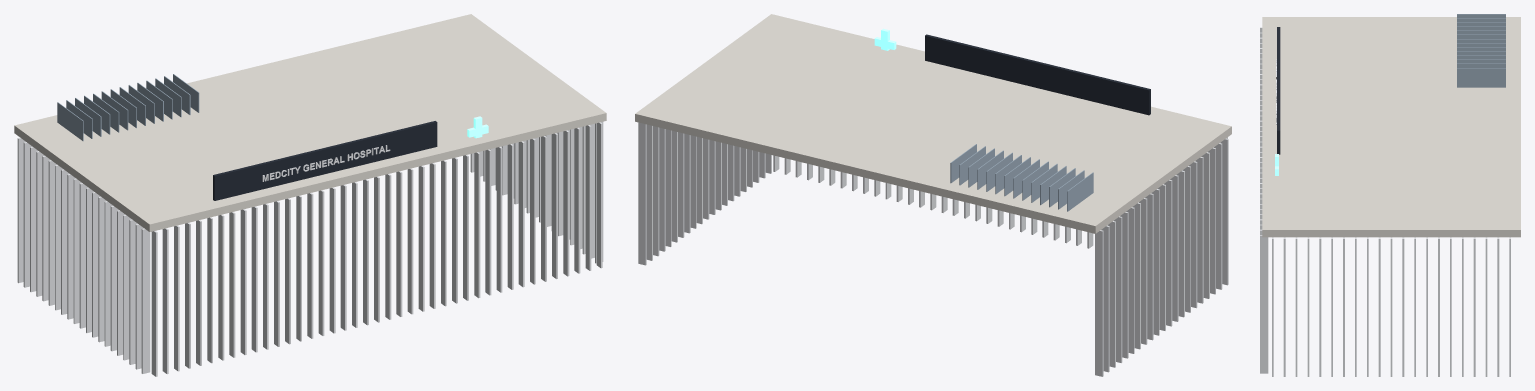
The model's file is hospital_upgrade.glb.
3 views of the same model, side by side, from view 1: azimuth 30°, elevation 25°; view 2: azimuth 150°, elevation 25°; view 3: azimuth 270°, elevation 25° (orthographic). The views are drawn at different scales.
Parts seen in each view (by area): view 1: MedCityHospitalUpgrade; view 2: MedCityHospitalUpgrade; view 3: MedCityHospitalUpgrade.
Boxes of the visible parts, box(x1,y1,x2,y2) form: MedCityHospitalUpgrade: box(14, 14, 606, 376); MedCityHospitalUpgrade: box(635, 14, 1231, 376); MedCityHospitalUpgrade: box(1260, 14, 1520, 376).
Size of the model in its own units: 62.1 by 22.9 by 31.85.
